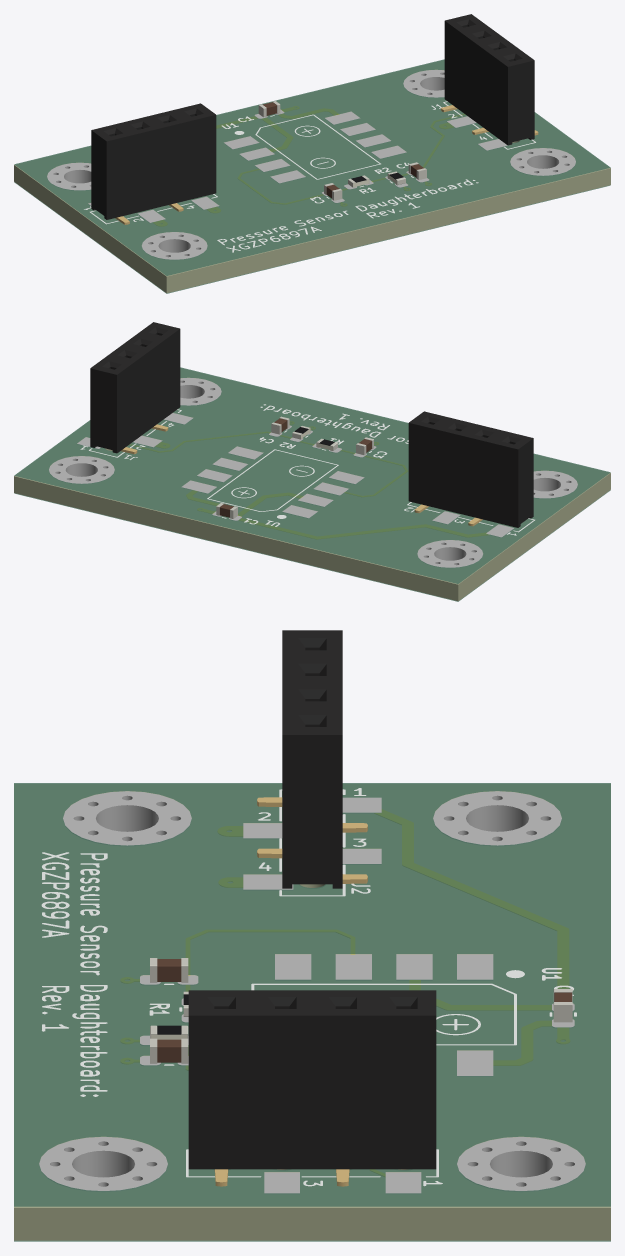
File: board.glb
The picture shows the model from 3 angles, top to bottom: view 1: azimuth 30°, elevation 25°; view 2: azimuth 150°, elevation 25°; view 3: azimuth 270°, elevation 25°; orthographic projection. The views are drawn at different scales.
Visible parts, largest first — view 1: board_PCB, board_soldermask (×2), PinSocket_1x04_P2.54mm_Vertical_SMD_Pin1Left (×2), board_pad, board_silkscreen, board_copper; view 2: board_PCB, board_soldermask (×2), PinSocket_1x04_P2.54mm_Vertical_SMD_Pin1Left (×2), board_pad, board_silkscreen, board_copper; view 3: board_PCB, board_soldermask (×2), PinSocket_1x04_P2.54mm_Vertical_SMD_Pin1Left (×2), board_pad, board_silkscreen, board_copper, C_0603_1608Metric (×2).
Boxes of the visible parts, left/top/right/bottom form: board_PCB: left=14, top=60, right=610, bottom=293; board_soldermask (×2): left=14, top=59, right=610, bottom=293; PinSocket_1x04_P2.54mm_Vertical_SMD_Pin1Left (×2): left=91, top=14, right=538, bottom=224; board_pad: left=47, top=70, right=575, bottom=259; board_silkscreen: left=84, top=101, right=535, bottom=252; board_copper: left=154, top=106, right=464, bottom=225; board_PCB: left=14, top=368, right=610, bottom=601; board_soldermask (×2): left=14, top=367, right=610, bottom=601; PinSocket_1x04_P2.54mm_Vertical_SMD_Pin1Left (×2): left=90, top=322, right=533, bottom=527; board_pad: left=49, top=378, right=577, bottom=567; board_silkscreen: left=80, top=404, right=534, bottom=535; board_copper: left=130, top=422, right=486, bottom=538; board_PCB: left=14, top=784, right=610, bottom=1240; board_soldermask (×2): left=14, top=783, right=610, bottom=1241; PinSocket_1x04_P2.54mm_Vertical_SMD_Pin1Left (×2): left=188, top=630, right=436, bottom=1186; board_pad: left=39, top=791, right=585, bottom=1193; board_silkscreen: left=41, top=788, right=576, bottom=1186; board_copper: left=121, top=810, right=569, bottom=1176; C_0603_1608Metric (×2): left=150, top=958, right=188, bottom=1063.
Size of the model in its own units: 0.042 by 0.00905 by 0.025.
